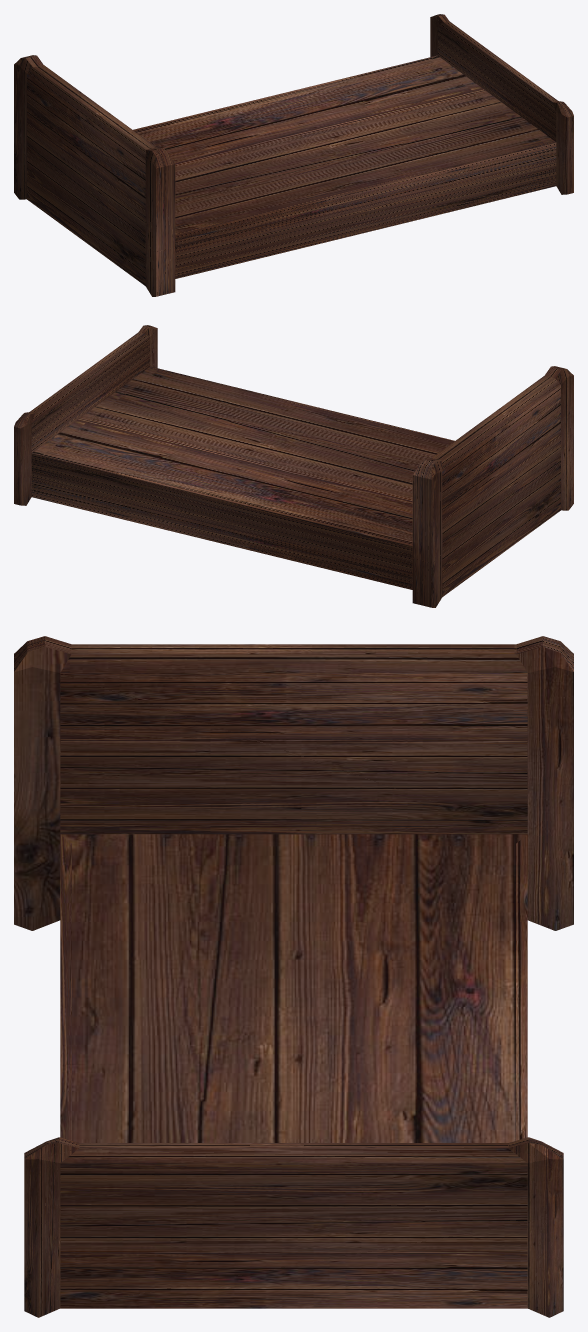
File: bed_1.obj
3 views of the same model, one above another, from view 1: azimuth 30°, elevation 25°; view 2: azimuth 150°, elevation 25°; view 3: azimuth 270°, elevation 25° (orthographic). The views are drawn at different scales.
Parts seen in each view (by area): view 1: Cube; view 2: Cube; view 3: Cube.
Boxes of the visible parts, bbox=[...] form: Cube: bbox=[14, 14, 573, 296]; Cube: bbox=[14, 325, 573, 607]; Cube: bbox=[14, 636, 573, 1317].
Bounding box in the file's own units: 7.54 × 2.44 × 4.4.
